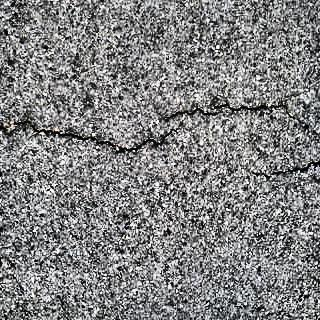crack: (0, 102, 320, 153), (246, 159, 320, 181)
